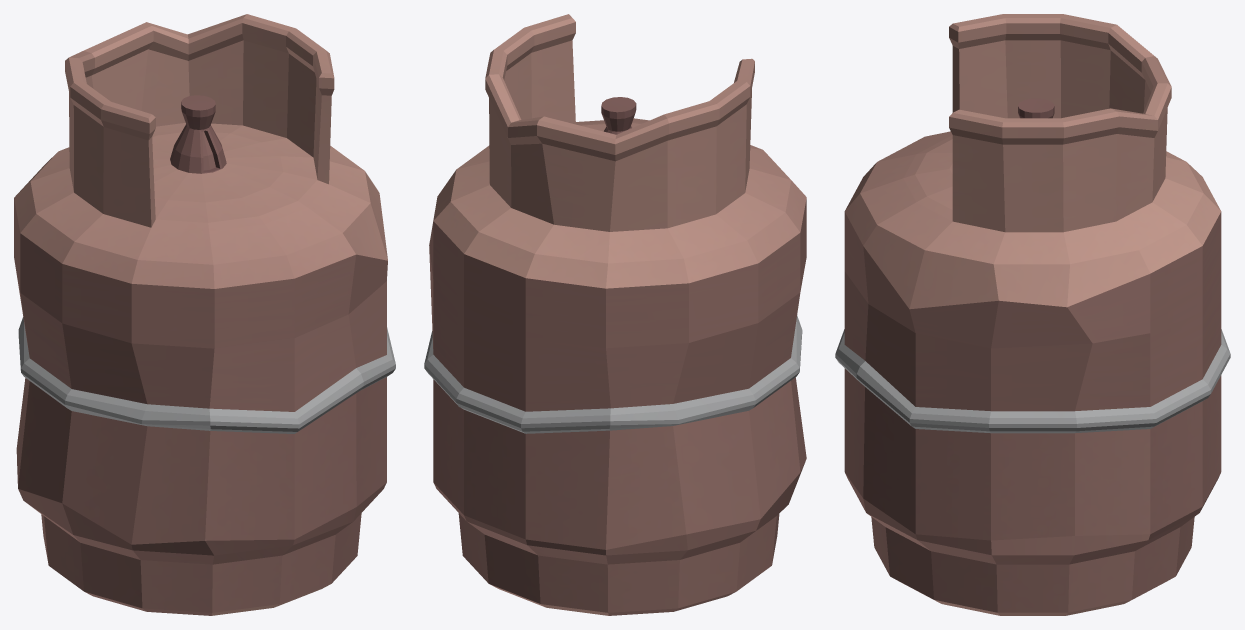
The model's file is propane_tank.glb.
3 renders of one model, left to right at view 1: azimuth 30°, elevation 25°; view 2: azimuth 150°, elevation 25°; view 3: azimuth 270°, elevation 25°, orthographic.
Parts seen in each view (by area): view 1: propane_tank; view 2: propane_tank; view 3: propane_tank.
Boxes of the visible parts, left/top/right/bottom form: propane_tank: left=14, top=14, right=395, bottom=615; propane_tank: left=424, top=14, right=806, bottom=615; propane_tank: left=835, top=14, right=1230, bottom=615.
Bounding box in the file's own units: 0.6793 × 0.9688 × 0.7121.
Materials: 1 (1 with a texture image).
